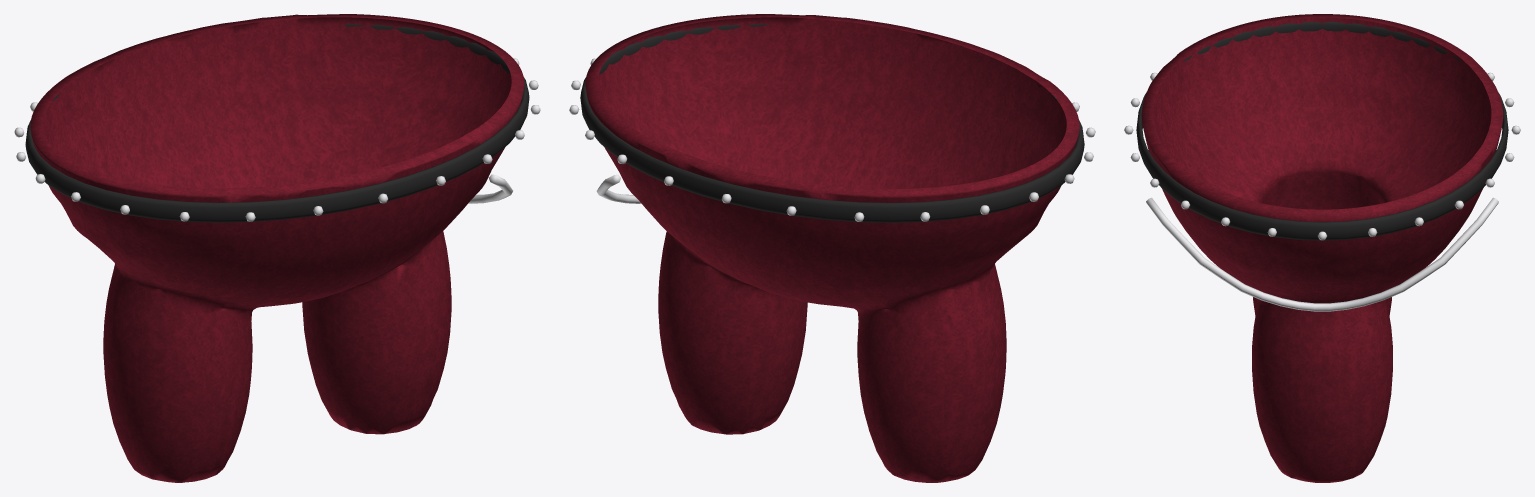
File: skinny2.fbx
The picture shows the model from 3 angles, left to right: view 1: azimuth 30°, elevation 25°; view 2: azimuth 150°, elevation 25°; view 3: azimuth 270°, elevation 25°; orthographic projection. The views are drawn at different scales.
Visible parts, largest first — view 1: skinny2; view 2: skinny2; view 3: skinny2.
Boxes of the visible parts, x1=… form: skinny2: x1=14, y1=14, x2=540, y2=482; skinny2: x1=569, y1=14, x2=1095, y2=482; skinny2: x1=1124, y1=14, x2=1520, y2=482.
Size of the model in its own units: 0.8577 by 0.57 by 0.6668.
Materials: 3 (1 with a texture image).
